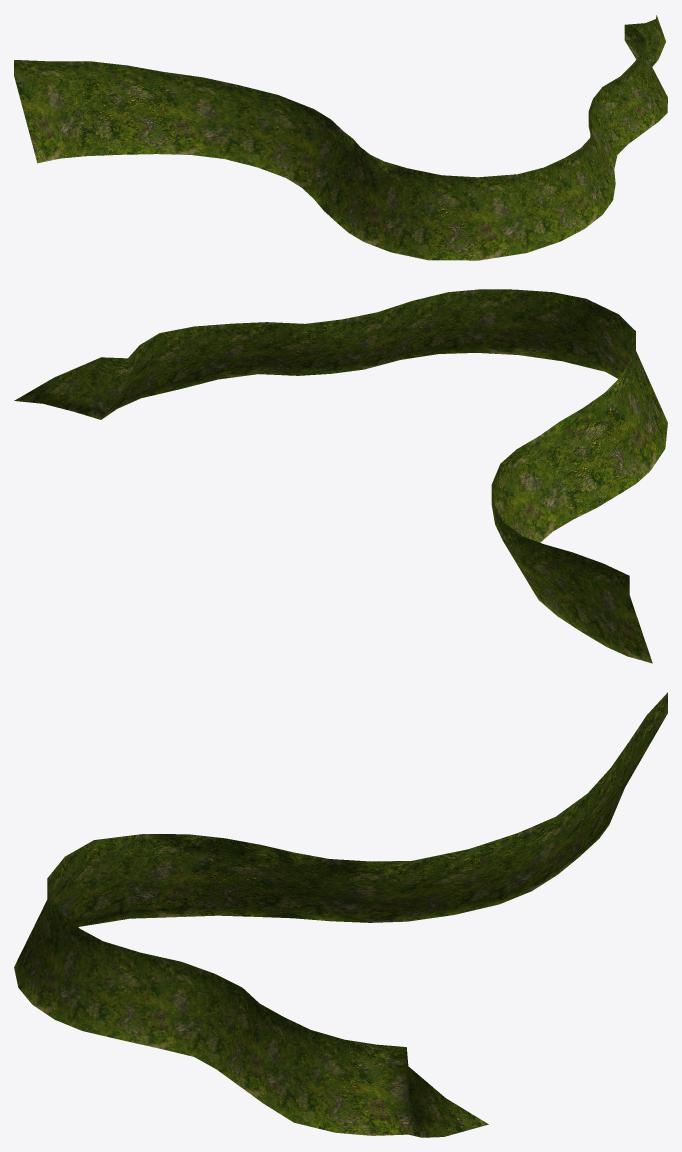
Rendered from OVERHILL_A_01_OH_B_OBJECT42.fbx.
3 views of the same model, one above another, from view 1: azimuth 30°, elevation 25°; view 2: azimuth 150°, elevation 25°; view 3: azimuth 270°, elevation 25° (orthographic). The views are drawn at different scales.
Visible parts, largest first — view 1: OVERHILL_A_01_OH_B_OBJECT42; view 2: OVERHILL_A_01_OH_B_OBJECT42; view 3: OVERHILL_A_01_OH_B_OBJECT42.
Part boxes in pixels (left/top/right/bottom): OVERHILL_A_01_OH_B_OBJECT42: left=14, top=15, right=667, bottom=260; OVERHILL_A_01_OH_B_OBJECT42: left=14, top=289, right=667, bottom=663; OVERHILL_A_01_OH_B_OBJECT42: left=14, top=692, right=667, bottom=1137.
Size of the model in its own units: 235039 by 34556 by 174659.
Materials: 1 (1 with a texture image).
